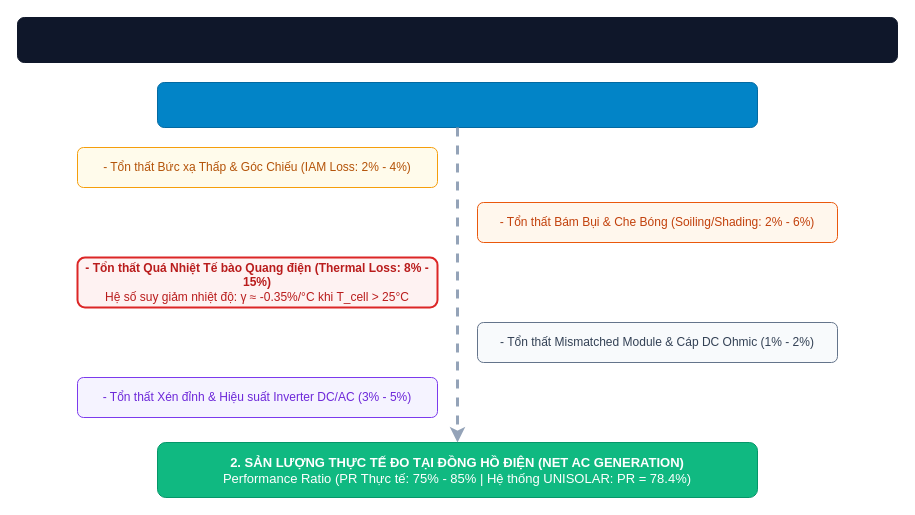
The diagram is 915 pixels wide and 515 high, and some of its shapes have lost their labels. The shapes that lost their labels are listed below. From the top down, each one's centre as x and y in pixels, then its label:
At (457,39): "SƠ ĐỒ PHÂN RÃ TỔN THẤT QUANG ĐIỆN (SOLAR PV LOSS DECOMPOSITION)".
At (457,105): "1. NĂNG LƯỢNG LÝ THUYẾT ĐẦU VÀO TẠI STC (100% - 1000 W/m², 25°C)".
